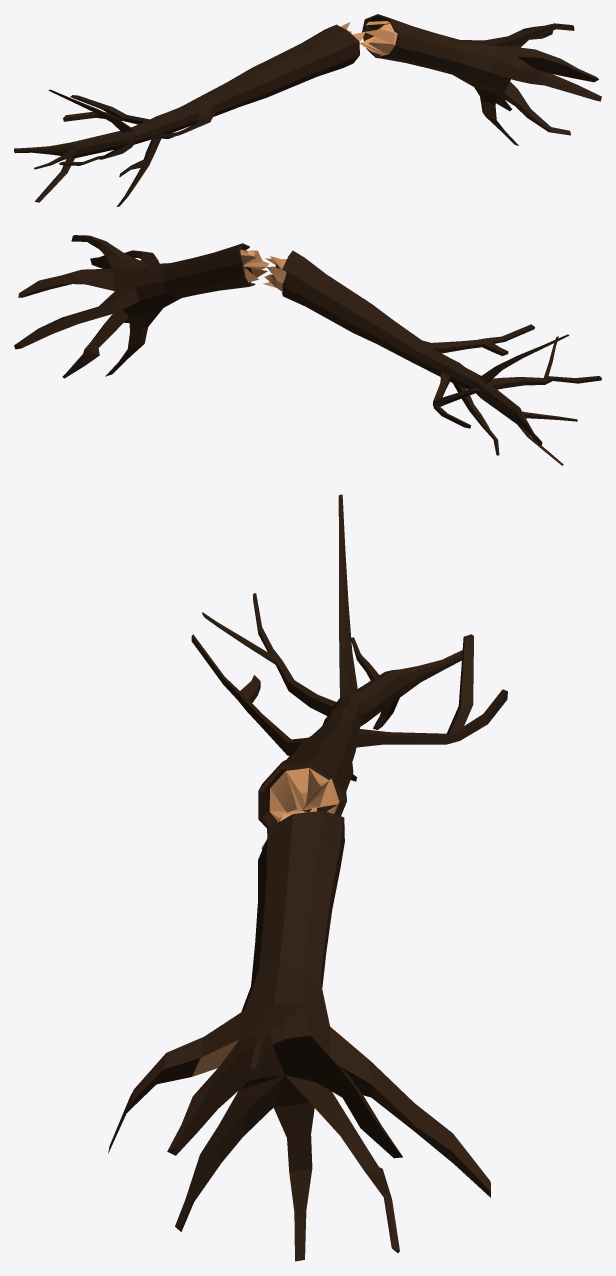
Rendered from brokenTree.fbx.
3 views of the same model, one above another, from view 1: azimuth 30°, elevation 25°; view 2: azimuth 150°, elevation 25°; view 3: azimuth 270°, elevation 25° (orthographic). The views are drawn at different scales.
Parts seen in each view (by area): view 1: Cylinder003, Cylinder002; view 2: Cylinder003, Cylinder002; view 3: Cylinder002, Cylinder003.
Boxes of the visible parts, x1,y1,x2,y2 form: Cylinder003: (14, 22, 365, 206); Cylinder002: (359, 14, 601, 145); Cylinder003: (263, 250, 601, 465); Cylinder002: (14, 235, 268, 378); Cylinder002: (108, 808, 490, 1261); Cylinder003: (191, 494, 507, 828).
Size of the model in its own units: 600 by 196 by 176.
